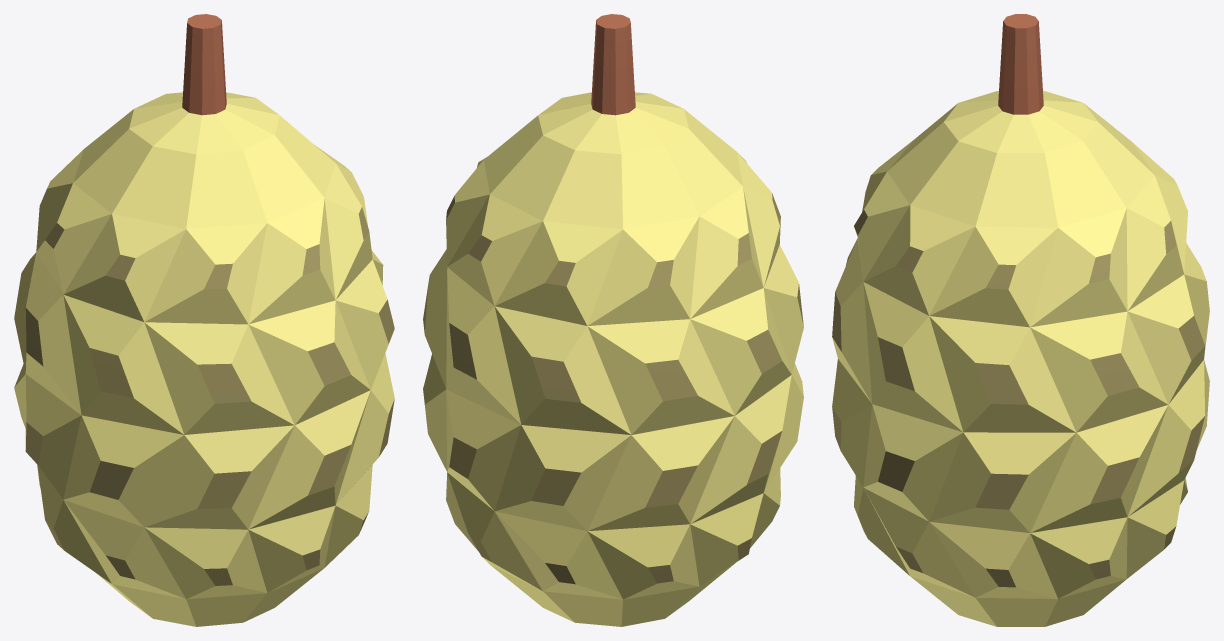
The model's file is Mulberry.fbx.
The picture shows the model from 3 angles, left to right: view 1: azimuth 30°, elevation 25°; view 2: azimuth 150°, elevation 25°; view 3: azimuth 270°, elevation 25°; orthographic projection.
Parts seen in each view (by area): view 1: Mulberry; view 2: Mulberry; view 3: Mulberry.
Boxes of the visible parts, x1,y1,x2,y2 form: Mulberry: [14, 14, 394, 626]; Mulberry: [423, 14, 803, 626]; Mulberry: [832, 14, 1209, 626].
Bounding box in the file's own units: 6.73 × 11.53 × 6.65.
